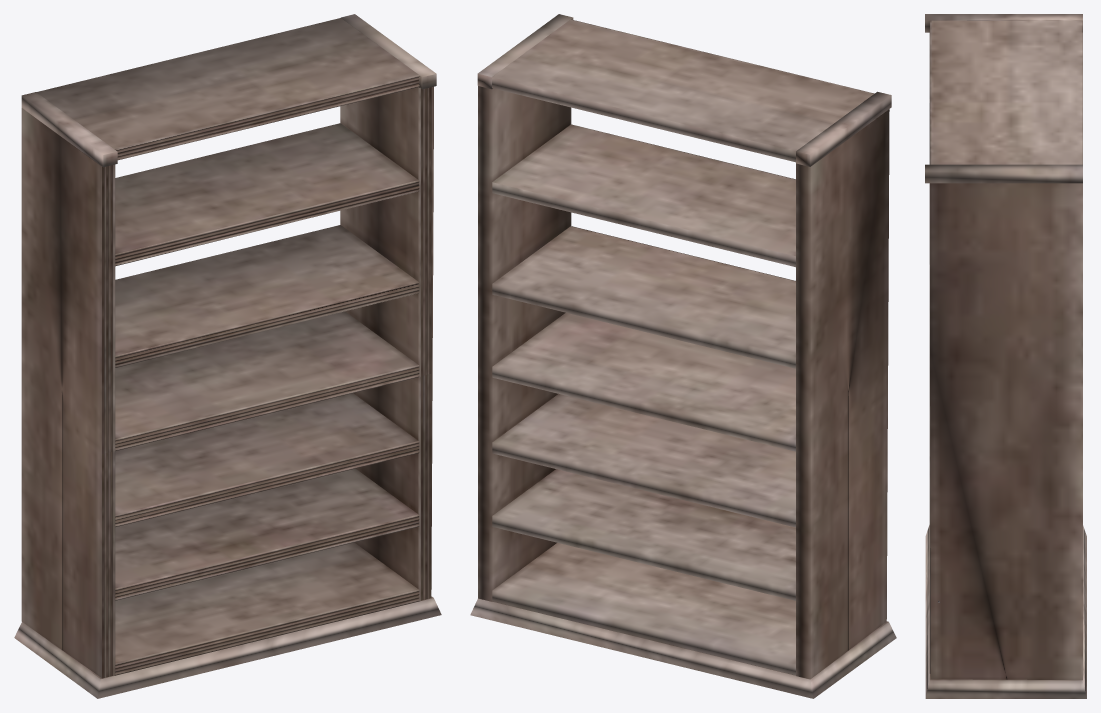
Rendered from wooden_bookshelf_worn.glb.
The picture shows the model from 3 angles, left to right: view 1: azimuth 30°, elevation 25°; view 2: azimuth 150°, elevation 25°; view 3: azimuth 270°, elevation 25°; orthographic projection. The views are drawn at different scales.
Parts seen in each view (by area): view 1: wooden_bookshelf_worn; view 2: wooden_bookshelf_worn; view 3: wooden_bookshelf_worn.
Part boxes in pixels (<box>): wooden_bookshelf_worn: <box>14,14,441,698</box>; wooden_bookshelf_worn: <box>470,14,896,698</box>; wooden_bookshelf_worn: <box>925,14,1086,698</box>.
Bounding box in the file's own units: 1.37 × 2.06 × 0.5766.
1 material, 1 textured.
